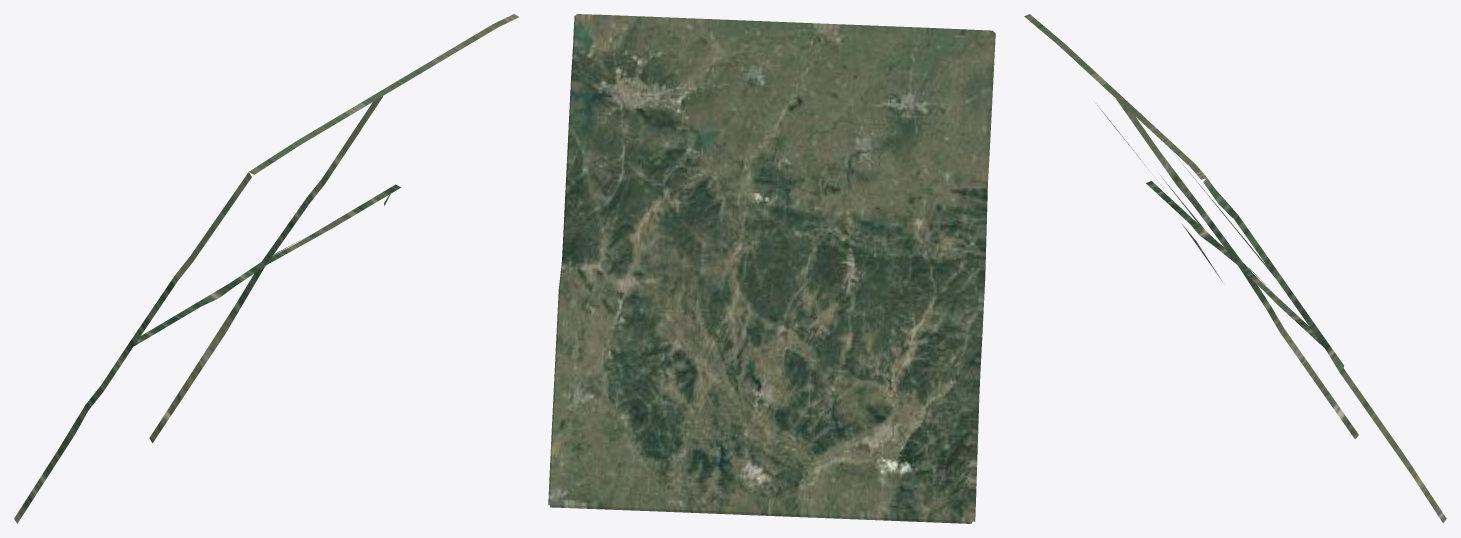
3 views of the same model, side by side, from view 1: azimuth 30°, elevation 25°; view 2: azimuth 150°, elevation 25°; view 3: azimuth 270°, elevation 25° (orthographic). The views are drawn at different scales.
Bounding box in the file's own units: 157948 × 135303 × 132243.
1 material, 1 textured.
